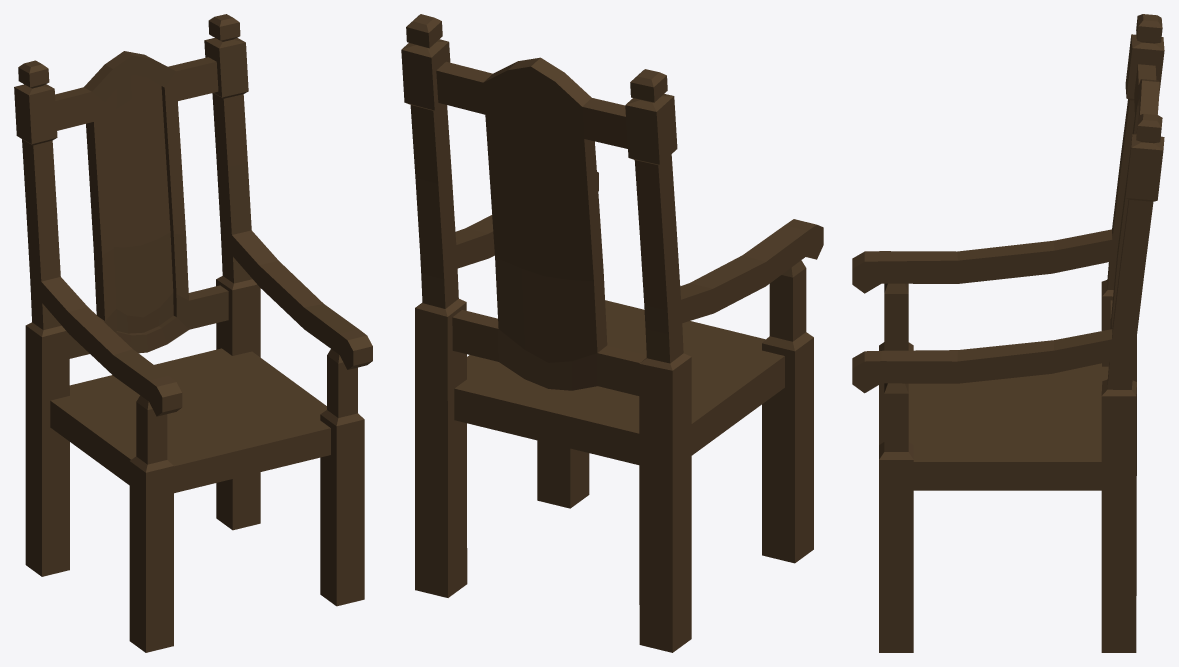
File: chair.gltf
3 views of the same model, side by side, from view 1: azimuth 30°, elevation 25°; view 2: azimuth 150°, elevation 25°; view 3: azimuth 270°, elevation 25° (orthographic). The views are drawn at different scales.
Visible parts, largest first — view 1: Chair; view 2: Chair; view 3: Chair.
Boxes of the visible parts, x1,y1,x2,y2 form: Chair: (14,14,372,652); Chair: (401,14,823,652); Chair: (852,14,1164,652).
Size of the model in its own units: 0.6833 by 1.47 by 0.7878.
1 material, 1 textured.
